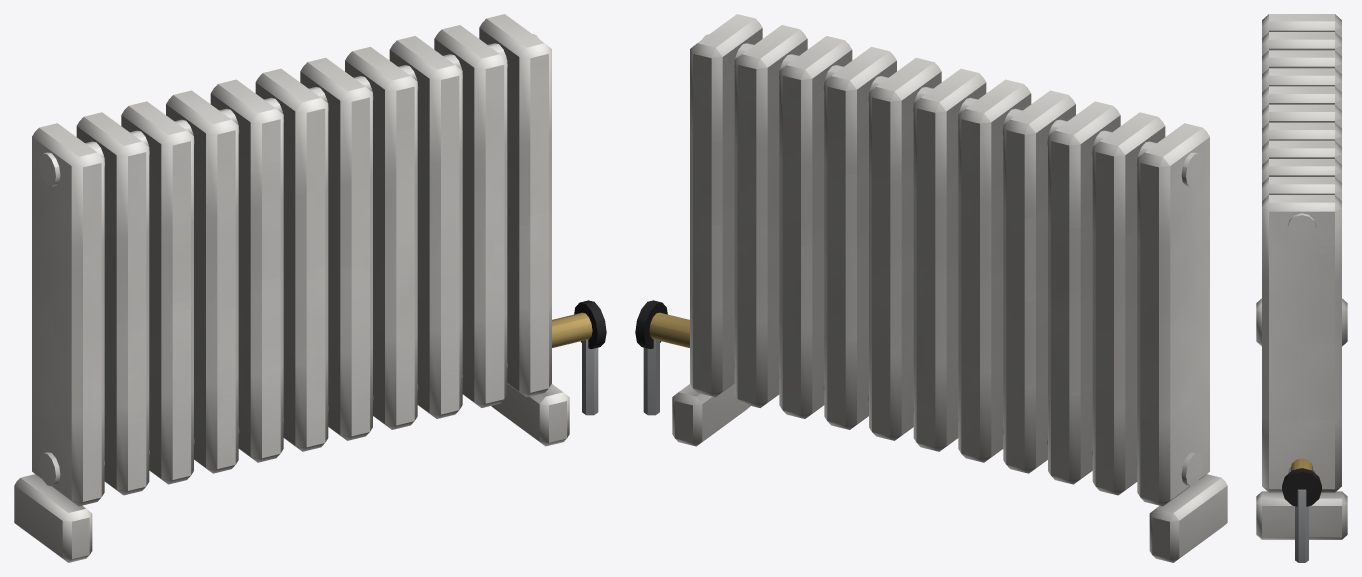
Rendered from radiator.glb.
The picture shows the model from 3 angles, left to right: view 1: azimuth 30°, elevation 25°; view 2: azimuth 150°, elevation 25°; view 3: azimuth 270°, elevation 25°; orthographic projection. The views are drawn at different scales.
Parts seen in each view (by area): view 1: body; view 2: body; view 3: body.
Part boxes in pixels (bbox=[...]): body: bbox=[14, 14, 606, 562]; body: bbox=[635, 14, 1227, 562]; body: bbox=[1256, 14, 1347, 562].
Size of what is drawn, in the model's own units: 0.9354 by 0.64 by 0.16.
Materials: 4 (1 with a texture image).
